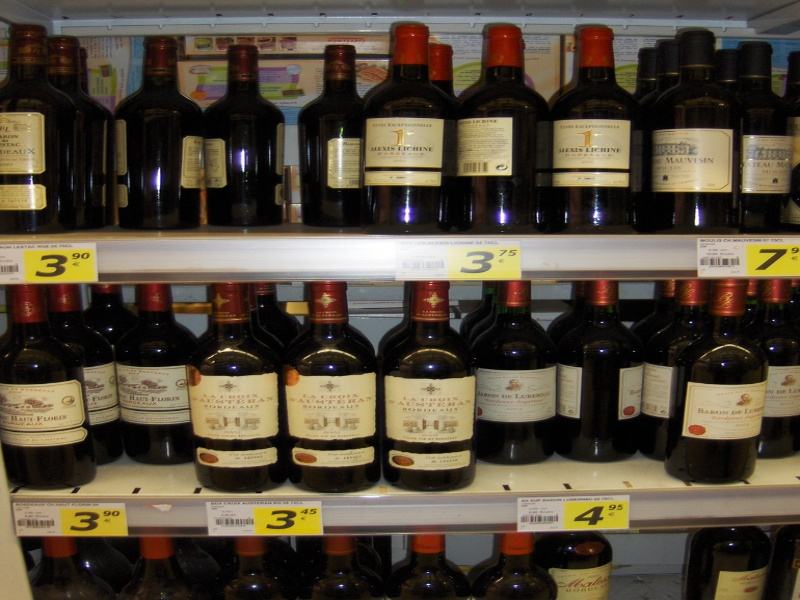wine: (3, 15, 800, 237), (1, 283, 799, 487), (21, 536, 800, 596)
